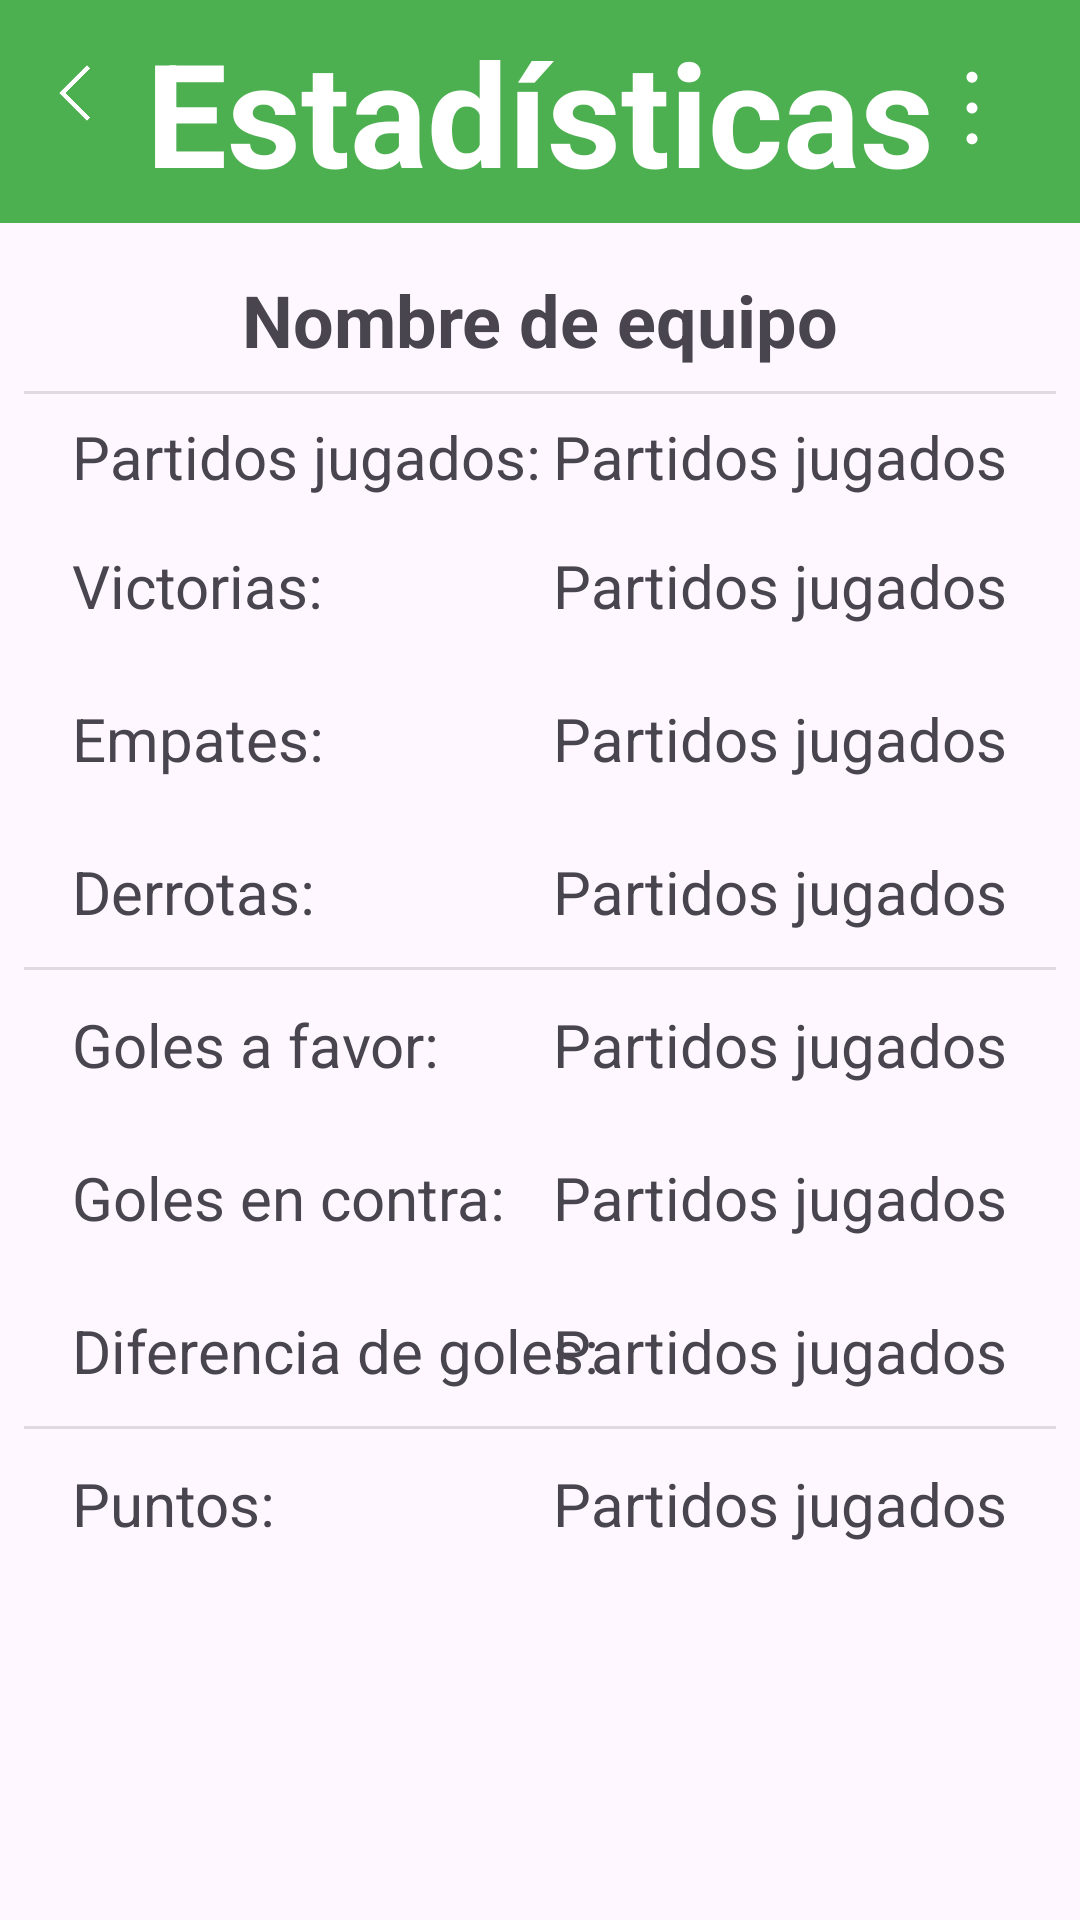

Icon click points for this 1080px×1920px phone screenshot, format (x=x, y=y):
arrow back: (x=74, y=93)
